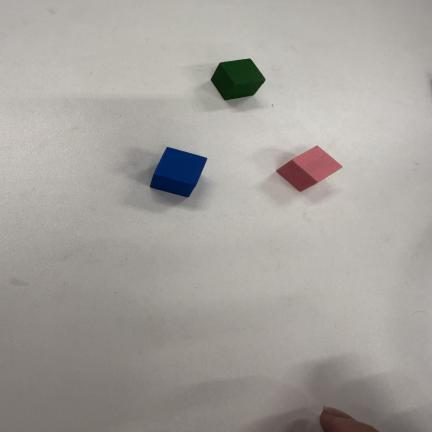BuildingBlocks: (277, 146, 341, 191), (151, 147, 206, 196), (212, 59, 265, 99)
